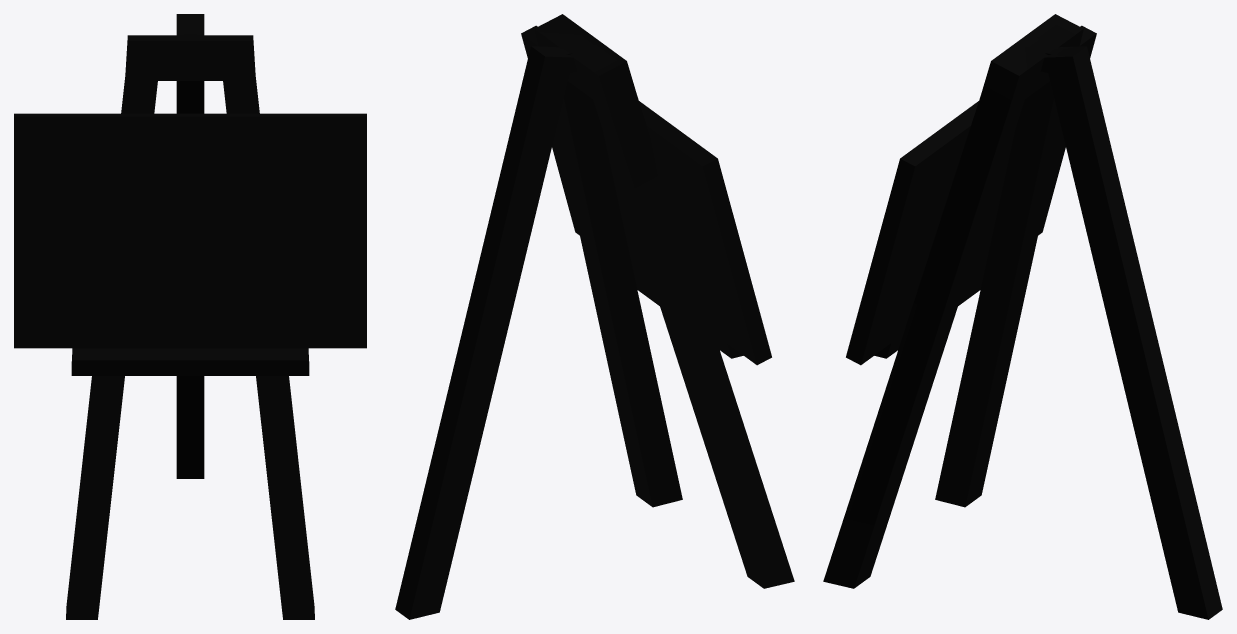
3 views of the same model, side by side, from view 1: azimuth 30°, elevation 25°; view 2: azimuth 150°, elevation 25°; view 3: azimuth 270°, elevation 25° (orthographic). The views are drawn at different scales.
Visible parts, largest first — view 1: Joint_0_Object_1; view 2: Joint_0_Object_1; view 3: Joint_0_Object_1.
Boxes of the visible parts, box(x1,y1,x2,y2) form: Joint_0_Object_1: box(14, 14, 366, 619); Joint_0_Object_1: box(395, 14, 794, 619); Joint_0_Object_1: box(823, 14, 1222, 619).
Bounding box in the file's own units: 1099 × 1811 × 1237.
Materials: 2 (2 with a texture image).
